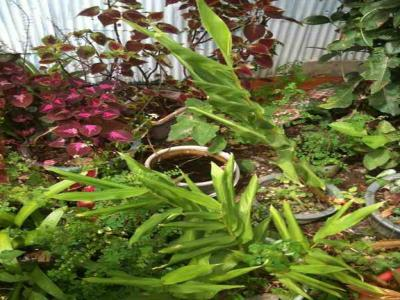bowl: (143, 144, 238, 197)
